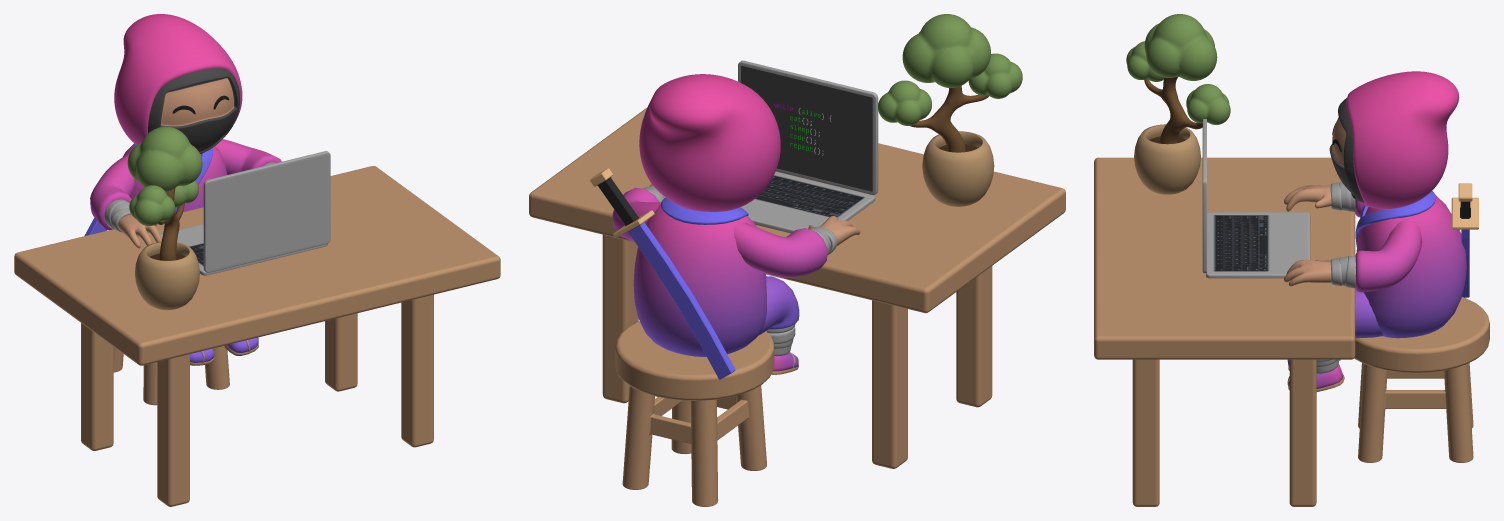
The model's file is avatar.glb.
3 views of the same model, side by side, from view 1: azimuth 30°, elevation 25°; view 2: azimuth 150°, elevation 25°; view 3: azimuth 270°, elevation 25° (orthographic). The views are drawn at different scales.
Parts seen in each view (by area): view 1: mesa, notebook, Cube.001, Cube, Sphere, Mball.002, plantero, Cylinder.001, Mball.001, bonsai, Cube.004, BézierCircle.004 (+1 smaller); view 2: mesa, Sphere, notebook, Cube.001, Cylinder.001, banco, Mball.002, katana, plantero, Mball.010, Mball.001, bonsai (+2 smaller); view 3: mesa, Sphere, Cube.001, notebook, Cylinder.001, banco, Mball.002, plantero, Cube.004, Cube, katana, Mball.010 (+5 smaller).
Boxes of the visible parts, left/top/right/bottom form: mesa: left=14, top=166, right=500, bottom=506; notebook: left=155, top=151, right=330, bottom=275; Cube.001: left=114, top=14, right=242, bottom=144; Cube: left=148, top=68, right=239, bottom=153; Sphere: left=90, top=139, right=281, bottom=229; Mball.002: left=127, top=126, right=202, bottom=192; plantero: left=135, top=242, right=199, bottom=310; Cylinder.001: left=113, top=346, right=229, bottom=405; Mball.001: left=129, top=185, right=175, bottom=225; bonsai: left=158, top=188, right=184, bottom=260; Cube.004: left=118, top=214, right=161, bottom=248; BézierCircle.004: left=104, top=162, right=275, bottom=232; mesa: left=529, top=107, right=1065, bottom=468; Sphere: left=612, top=187, right=827, bottom=356; notebook: left=738, top=60, right=878, bottom=233; Cube.001: left=639, top=74, right=780, bottom=211; Cylinder.001: left=622, top=385, right=766, bottom=506; banco: left=615, top=321, right=774, bottom=400; Mball.002: left=902, top=14, right=990, bottom=87; katana: left=589, top=168, right=735, bottom=379; plantero: left=922, top=131, right=994, bottom=206; Mball.010: left=878, top=80, right=931, bottom=125; Mball.001: left=968, top=53, right=1022, bottom=98; bonsai: left=910, top=86, right=988, bottom=152; mesa: left=1094, top=157, right=1355, bottom=506; Sphere: left=1355, top=194, right=1466, bottom=338; Cube.001: left=1346, top=71, right=1459, bottom=208; notebook: left=1202, top=119, right=1310, bottom=278; Cylinder.001: left=1358, top=363, right=1473, bottom=462; banco: left=1354, top=297, right=1489, bottom=373; Mball.002: left=1144, top=14, right=1217, bottom=80; plantero: left=1134, top=124, right=1200, bottom=194; Cube.004: left=1284, top=185, right=1331, bottom=286; Cube: left=1329, top=98, right=1363, bottom=202; katana: left=1451, top=183, right=1478, bottom=297; Mball.010: left=1186, top=84, right=1230, bottom=124.
Bounding box in the file's own units: 0.3833 × 0.363 × 0.3528.
18 materials, 3 textured.
